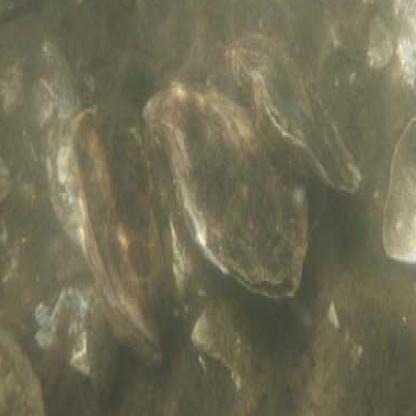3: (143, 83, 311, 299)
Oyster-Closed: (34, 38, 162, 371), (227, 35, 363, 196), (193, 269, 282, 385)
Oyster-Open: (385, 113, 416, 260), (0, 331, 45, 416)
